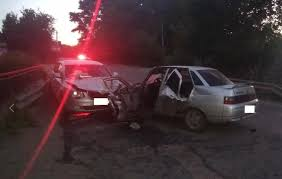car: (106, 54, 255, 137)
